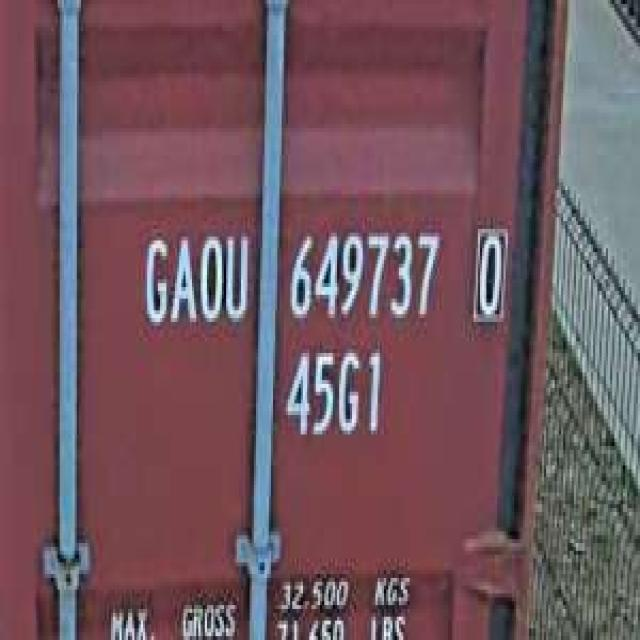dv: (467, 213, 510, 330)
owner: (136, 218, 252, 338)
serial: (282, 217, 444, 330)
size: (280, 337, 386, 450)
